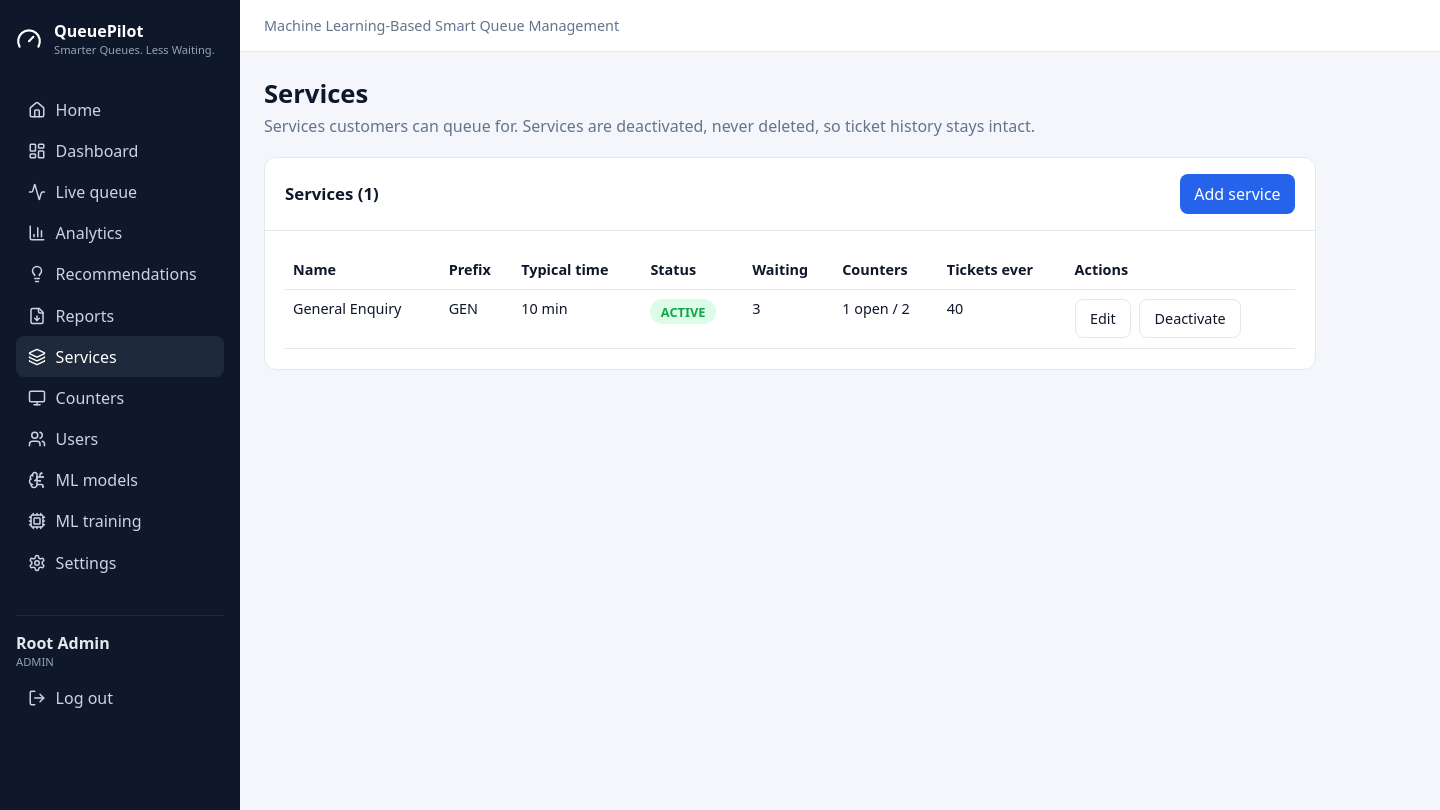
Test: deactivating asks for confirmation, can be cancelled, and shows the business-rule refusal
Step 1. Click the button with aria-label "Deactivate General Enquiry" → (1190, 319), box [1139,299,1241,338]
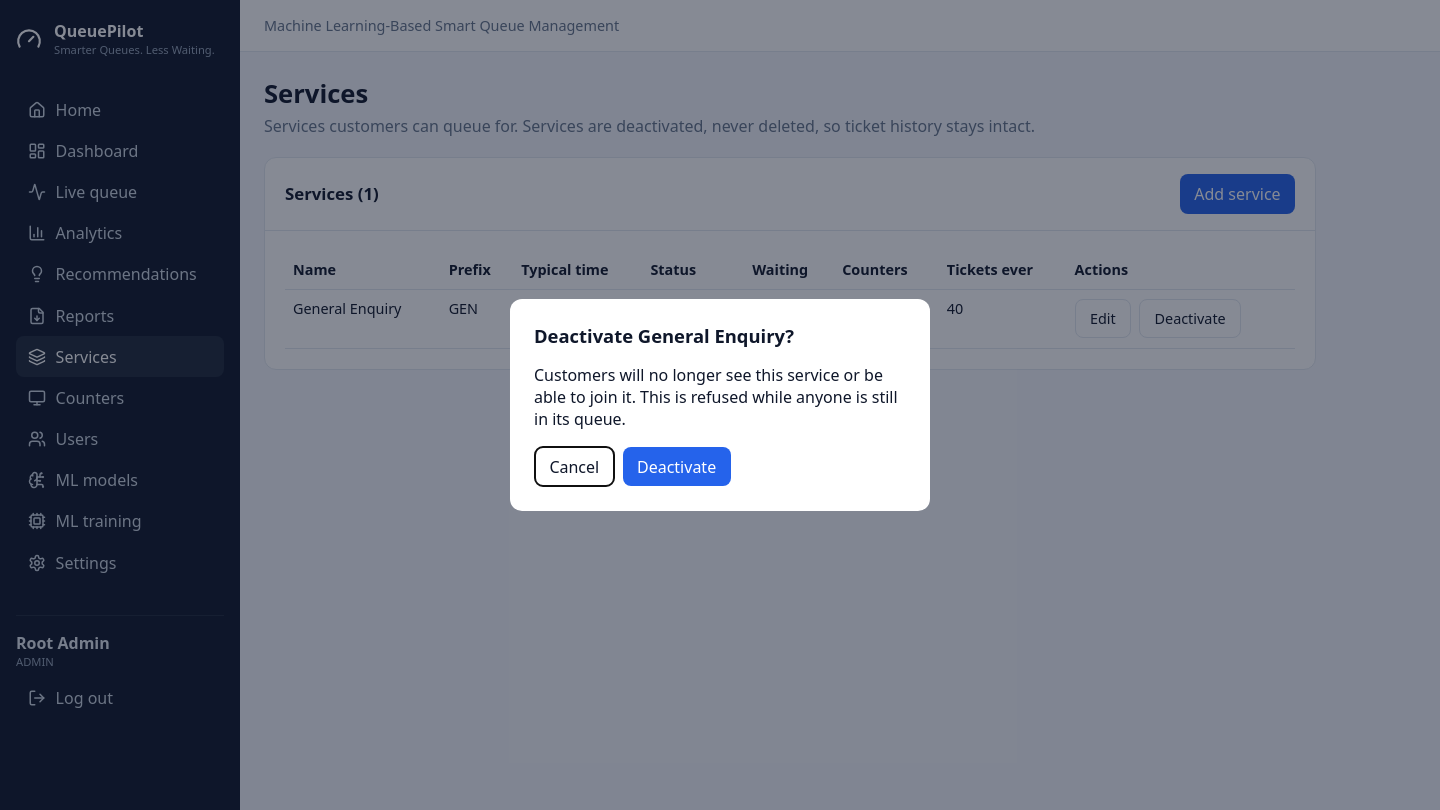
Step 2. Click the button "Cancel" → (574, 466), box [534,446,615,487]
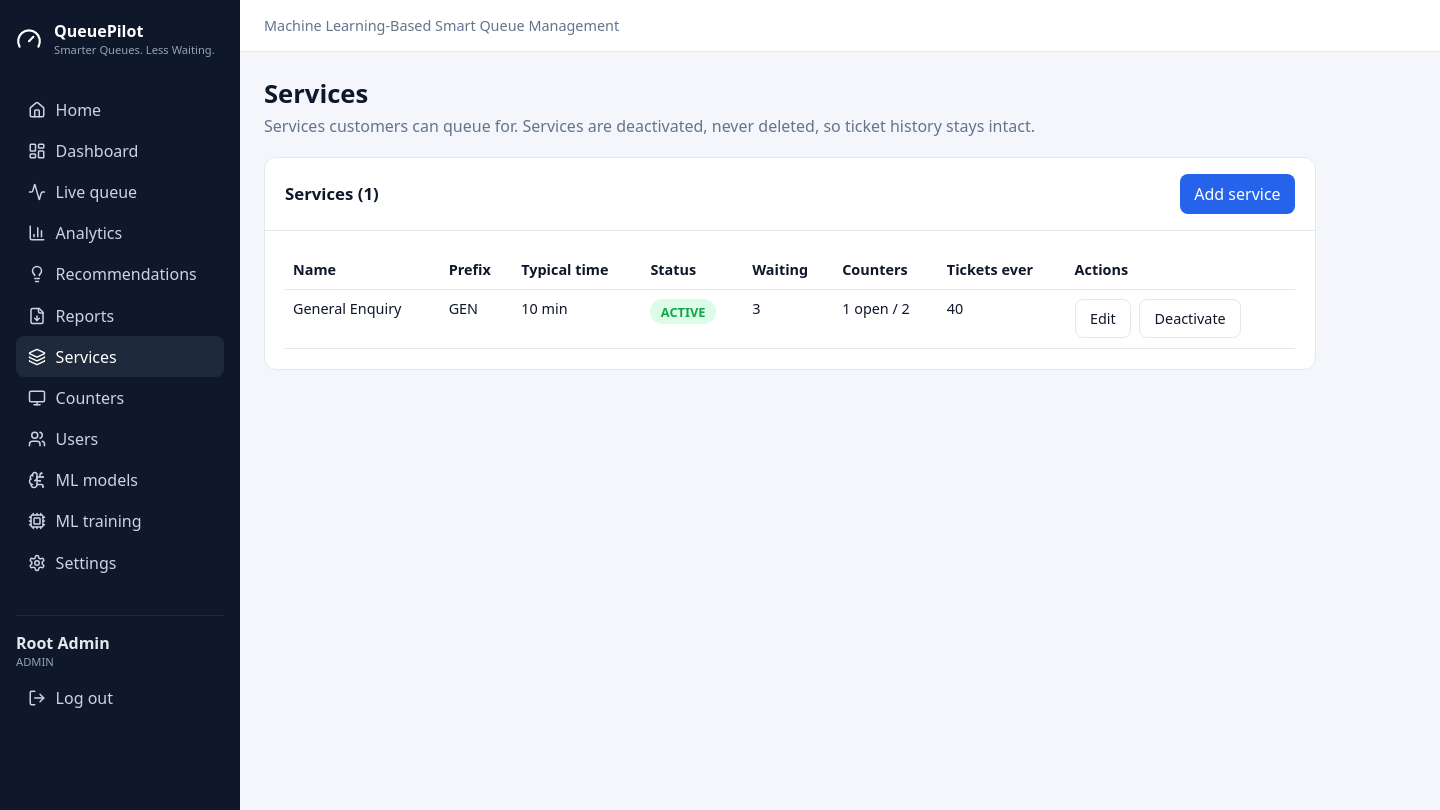
Step 3. Click the button with aria-label "Deactivate General Enquiry" → (1190, 319), box [1139,299,1241,338]
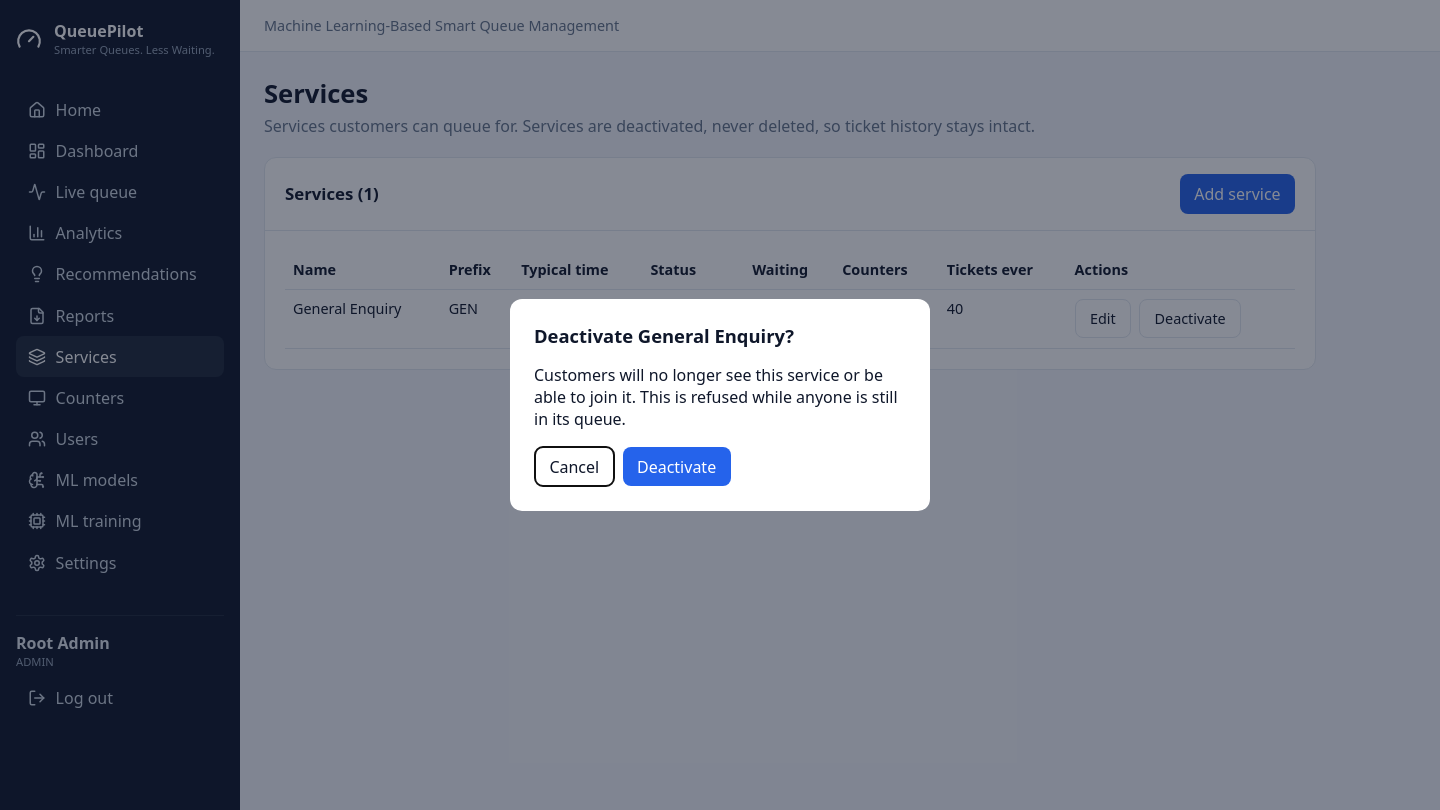
Step 4. Click the button "Deactivate" → (677, 466), box [623,447,731,486]
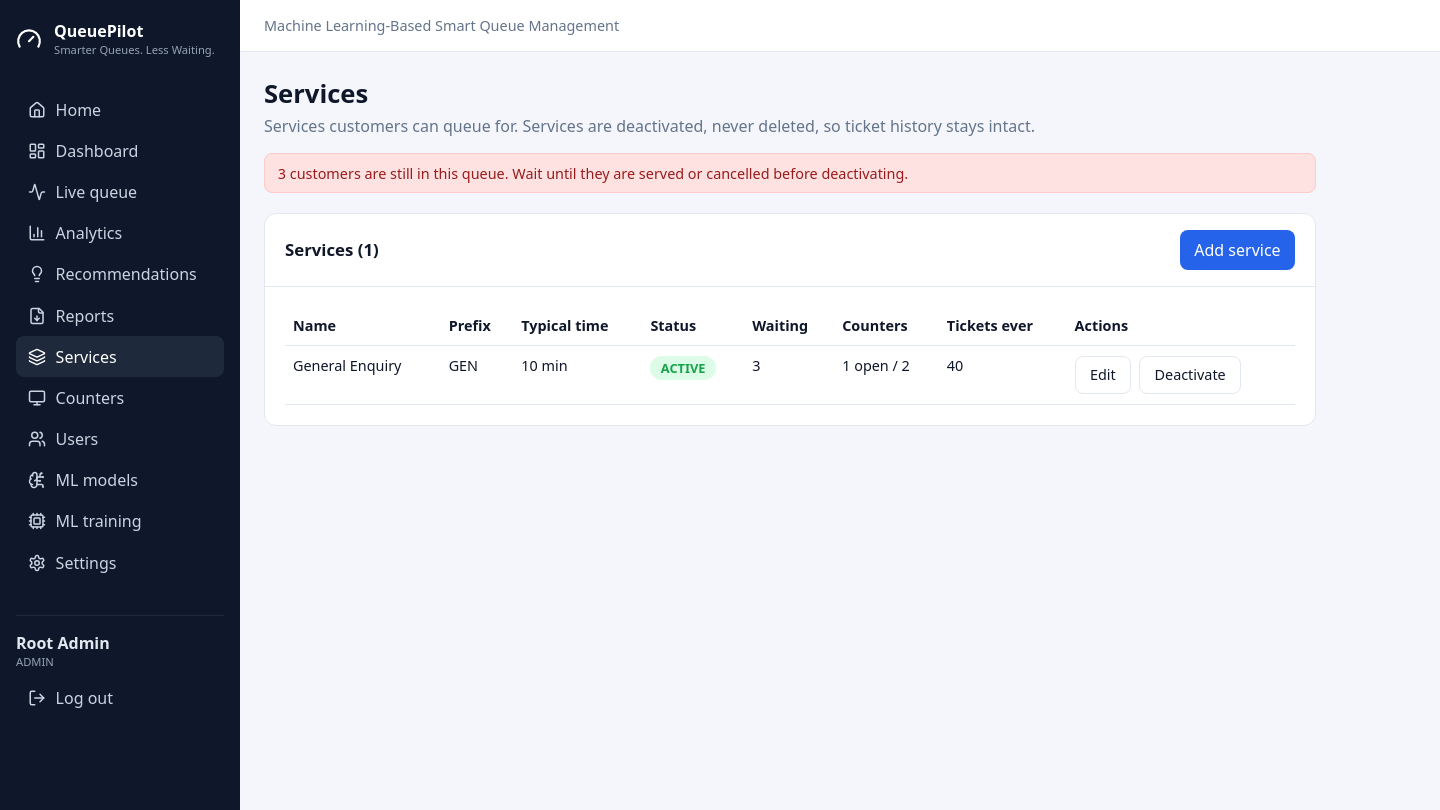
Expected: the text "3 customers are still in this queue" is shown, [278,164,908,183]
